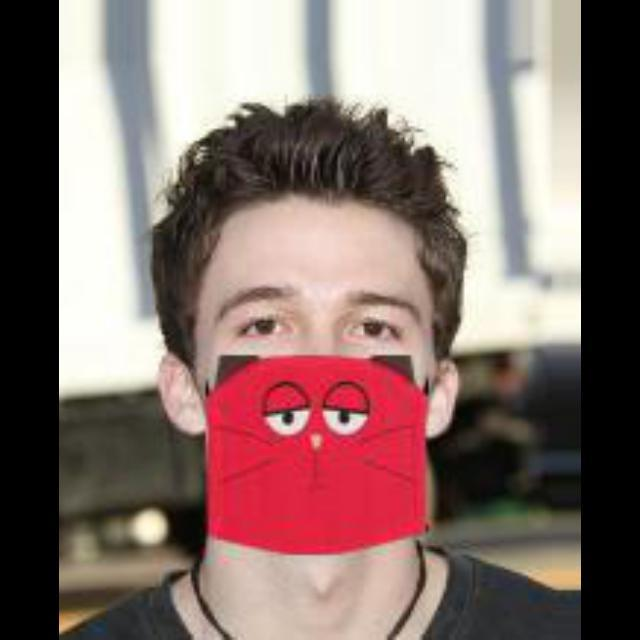suspicion: (104, 106, 524, 554)
